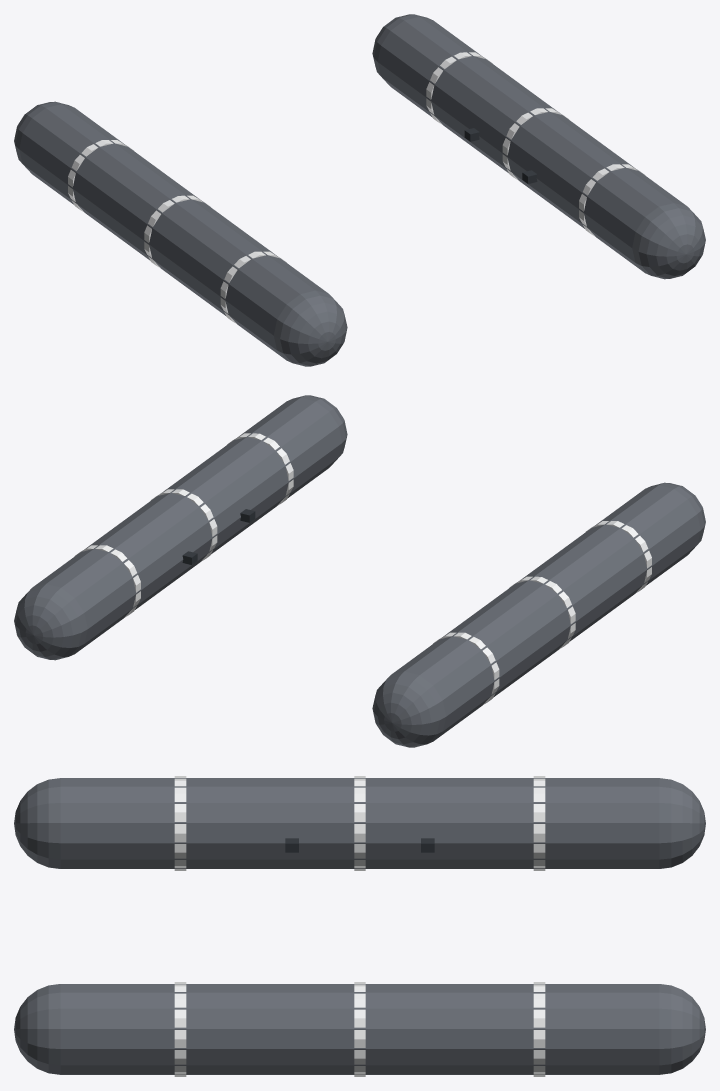
File: apex_v8.glb
The picture shows the model from 3 angles, top to bottom: view 1: azimuth 30°, elevation 25°; view 2: azimuth 150°, elevation 25°; view 3: azimuth 270°, elevation 25°; orthographic projection. The views are drawn at different scales.
Visible parts, largest first — view 1: model; view 2: model; view 3: model.
Part boxes in pixels (left/top/right/bottom): model: left=14, top=14, right=705, bottom=366; model: left=14, top=395, right=705, bottom=747; model: left=14, top=776, right=705, bottom=1076.
Bounding box in the file's own units: 2.99 × 0.4894 × 3.57.
Materials: 1 (1 with a texture image).
